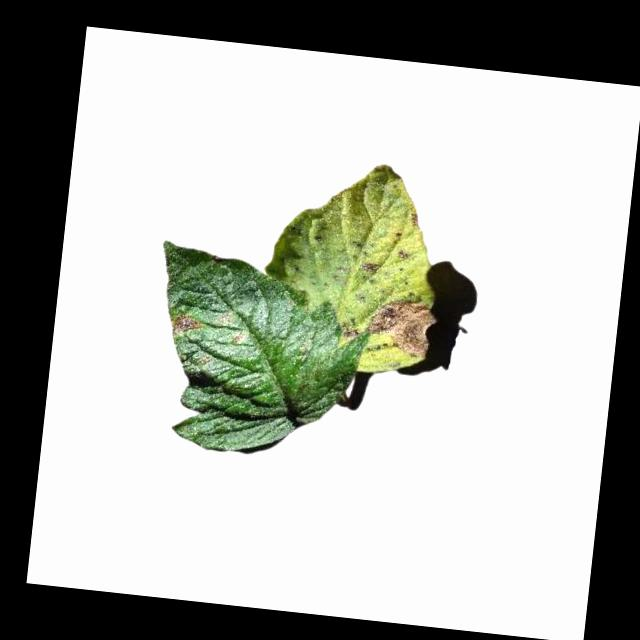Early_blight: (344, 289, 438, 357), (167, 308, 201, 339), (360, 259, 383, 275)
